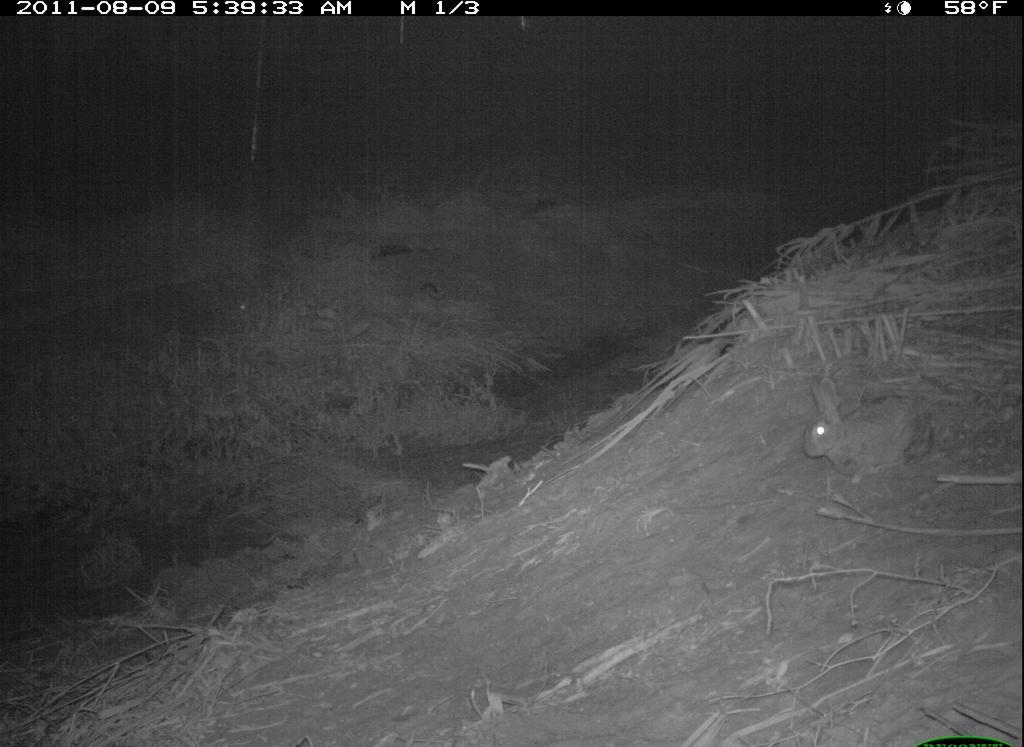rabbit: (795, 373, 952, 489)
